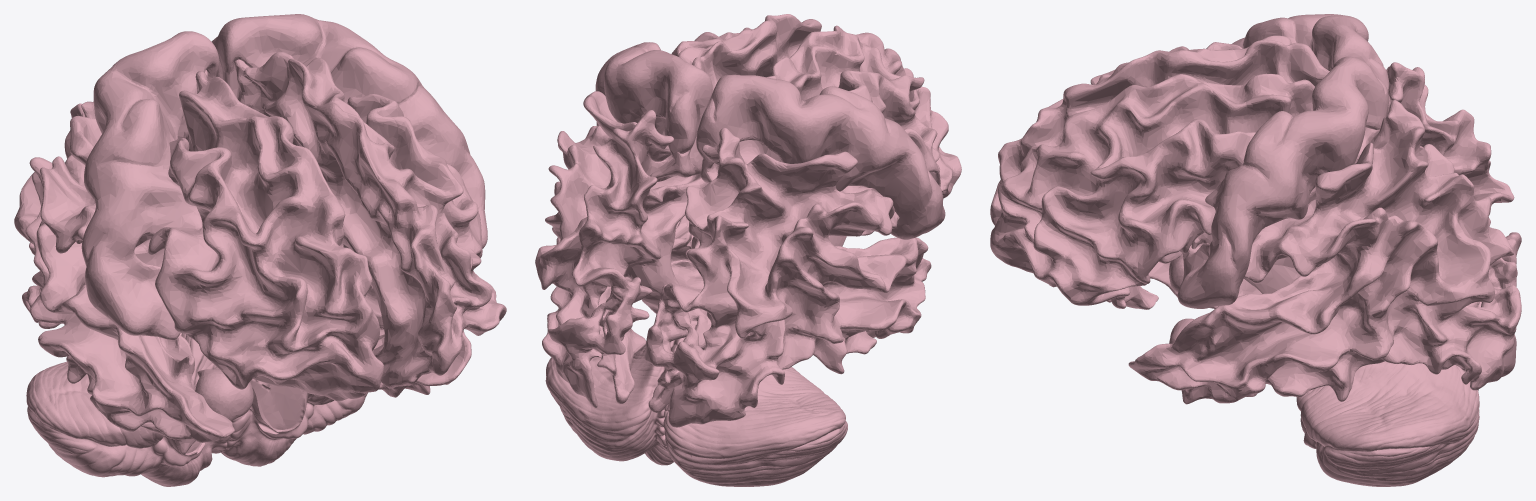
Rendered from brain.glb.
The picture shows the model from 3 angles, left to right: view 1: azimuth 30°, elevation 25°; view 2: azimuth 150°, elevation 25°; view 3: azimuth 270°, elevation 25°; orthographic projection. The views are drawn at different scales.
Visible parts, largest first — view 1: WhiteMatter_CerebralHemispheres, PrecentralGyrus_R, Cerebellum, PrecentralGyrus_L, Amygdala_R; view 2: WhiteMatter_CerebralHemispheres, Cerebellum, PrecentralGyrus_R, PrecentralGyrus_L; view 3: WhiteMatter_CerebralHemispheres, PrecentralGyrus_L, Cerebellum, PrecentralGyrus_R.
Boxes of the visible parts, x1,y1,x2,y2 form: WhiteMatter_CerebralHemispheres: [14, 52, 506, 454]; PrecentralGyrus_R: [81, 31, 219, 339]; Cerebellum: [26, 333, 367, 486]; PrecentralGyrus_L: [211, 14, 487, 248]; Amygdala_R: [195, 369, 253, 420]; WhiteMatter_CerebralHemispheres: [535, 14, 961, 427]; Cerebellum: [545, 337, 847, 486]; PrecentralGyrus_R: [696, 74, 945, 239]; PrecentralGyrus_L: [595, 42, 712, 181]; WhiteMatter_CerebralHemispheres: [990, 35, 1521, 404]; PrecentralGyrus_L: [1177, 56, 1389, 308]; Cerebellum: [1296, 361, 1479, 486]; PrecentralGyrus_R: [1231, 14, 1389, 113].
Bounding box in the file's own units: 120 × 132 × 154.
